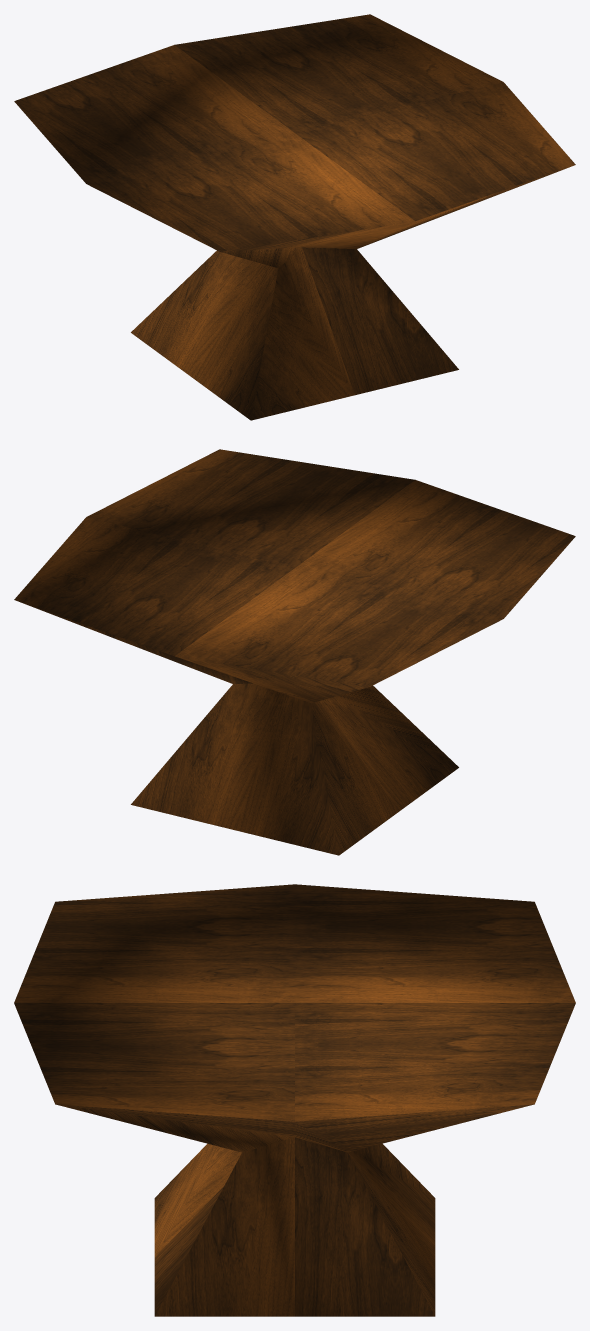
File: Wooden Table.fbx
The picture shows the model from 3 angles, top to bottom: view 1: azimuth 30°, elevation 25°; view 2: azimuth 150°, elevation 25°; view 3: azimuth 270°, elevation 25°; orthographic projection. The views are drawn at different scales.
Parts seen in each view (by area): view 1: Cube; view 2: Cube; view 3: Cube.
Part boxes in pixels (x1,y1,x2,y2): Cube: (14,14,575,420); Cube: (14,449,575,855); Cube: (14,884,575,1316).
Size of the model in its own units: 4.01 by 2 by 4.01.
